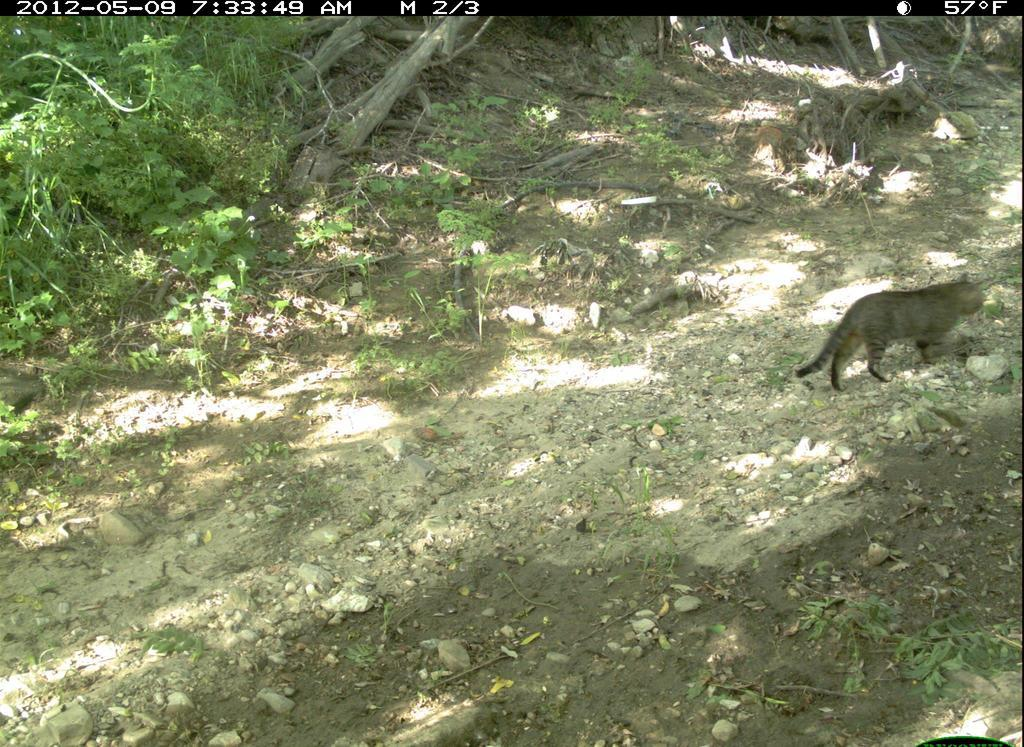cat: (790, 268, 994, 400)
